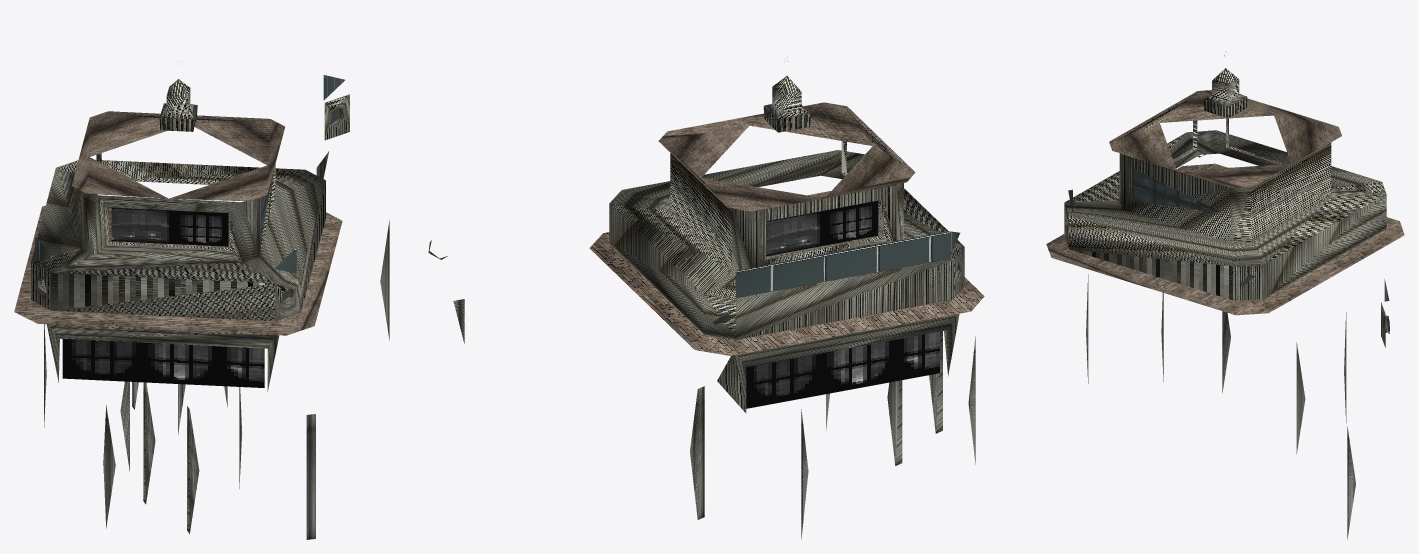
File: world_camden_-17_-2.gltf
The picture shows the model from 3 angles, left to right: view 1: azimuth 30°, elevation 25°; view 2: azimuth 150°, elevation 25°; view 3: azimuth 270°, elevation 25°; orthographic projection. The views are drawn at different scales.
Bounding box in the file's own units: 42.67 × 38.62 × 35.12.
7 materials, 7 textured.
